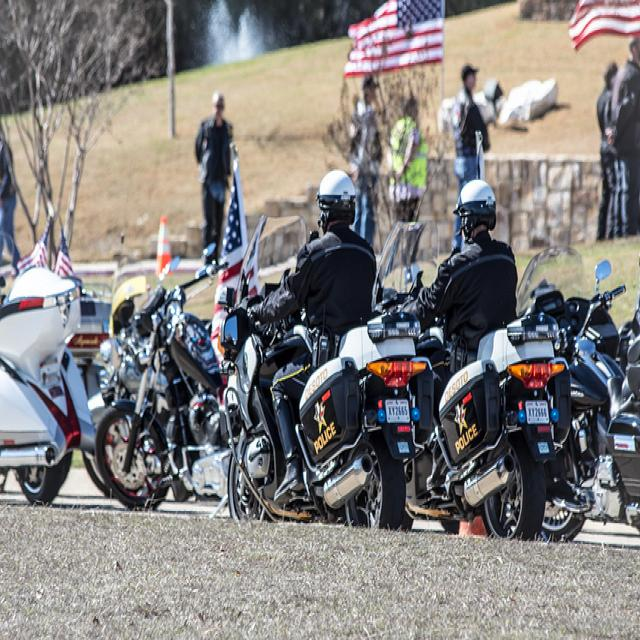motor: (371, 219, 573, 546), (221, 296, 434, 531), (98, 287, 227, 519), (542, 259, 640, 543), (0, 266, 96, 504), (518, 246, 635, 374)
